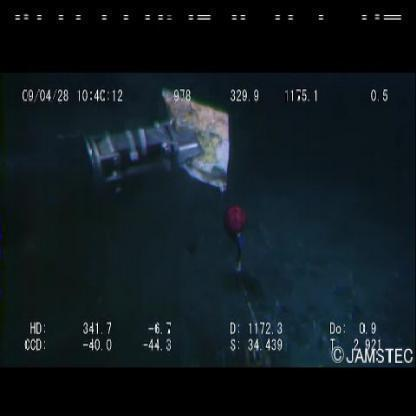Rác: (162, 89, 230, 194)
